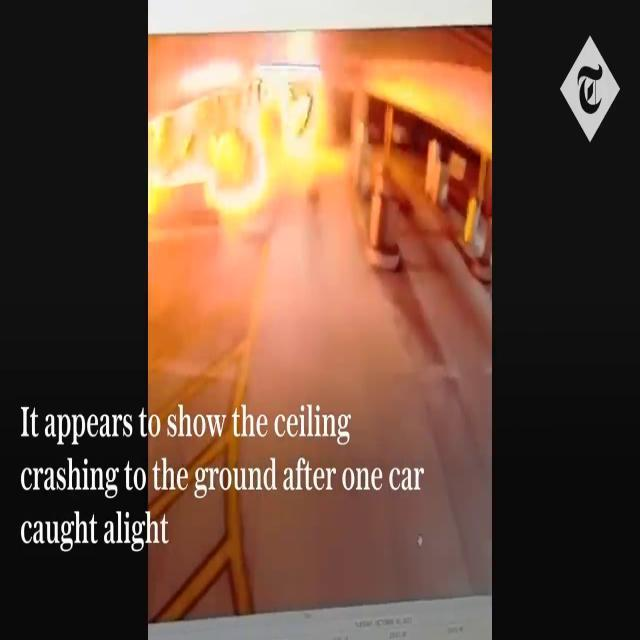Fire: (149, 6, 349, 224)
